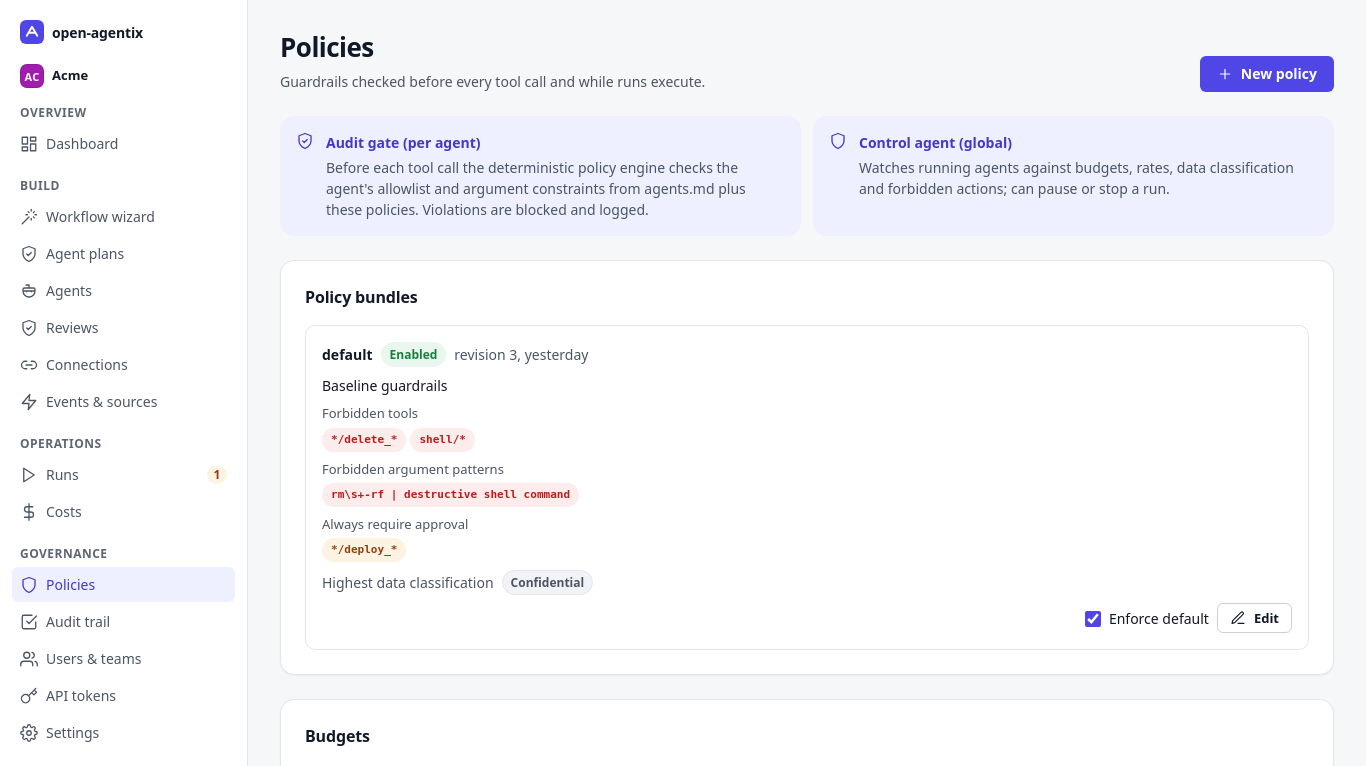
Test: policies › rolls back a failed toggle
The image size is (1366, 766).
Click the checkbox labelled "Enforce default".
click(1093, 619)  # box [1085, 611, 1101, 627]
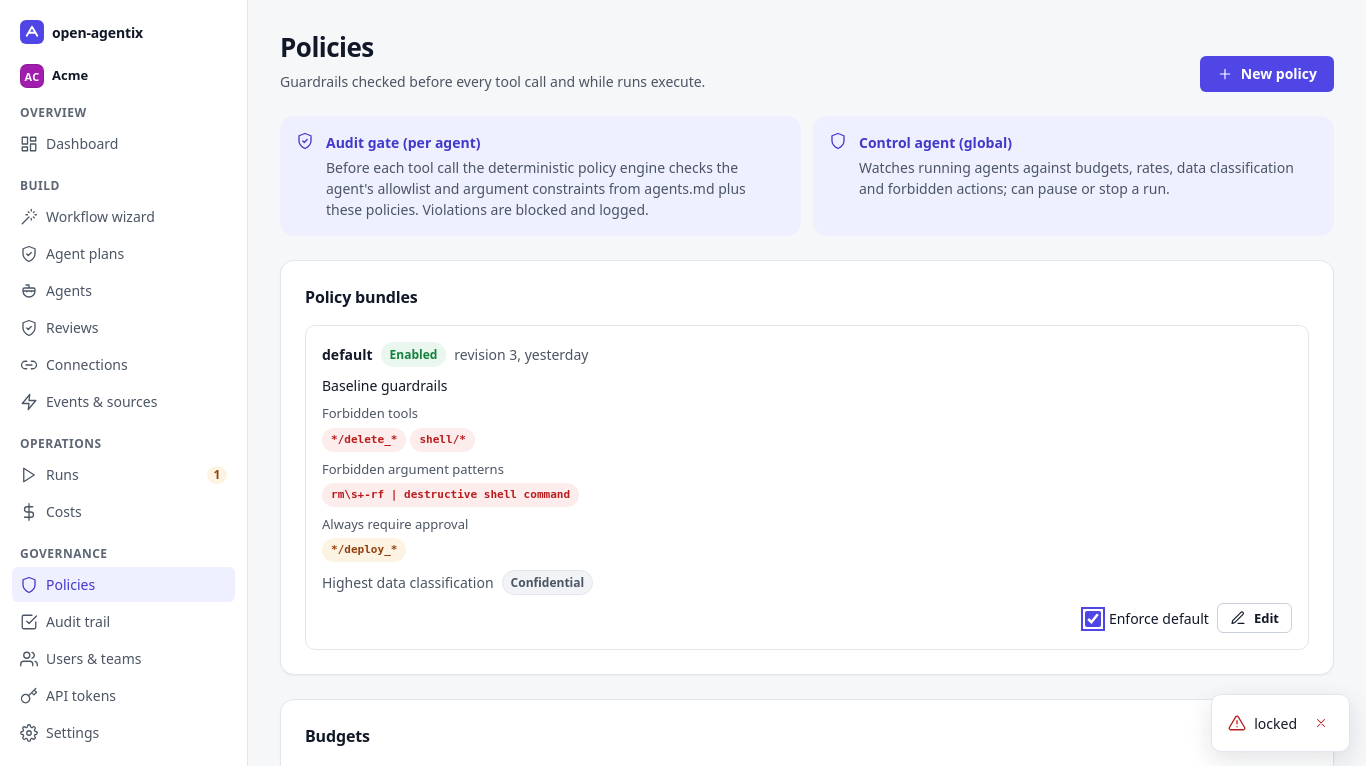
Expected: the text "locked" is shown, [1254, 712, 1297, 734]
